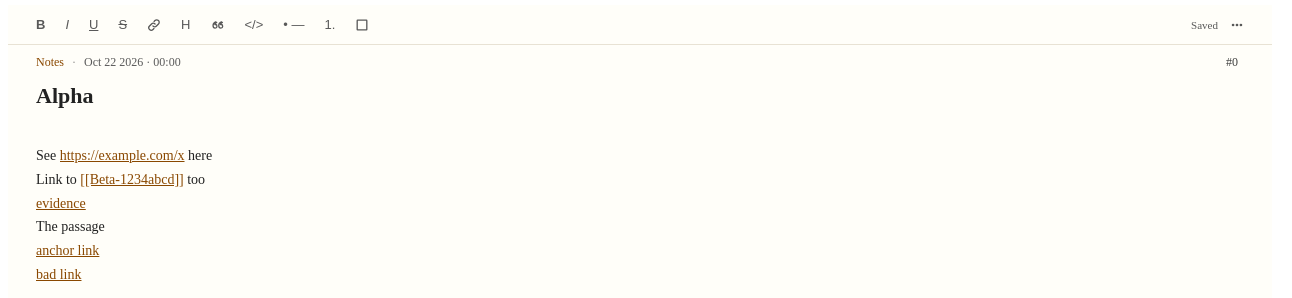
a scroll that takes the link out of the visible box closes the chip
Click the text box labelled "See https://example.com/x here": (124, 156) top-left (36, 148), bottom-right (212, 163)
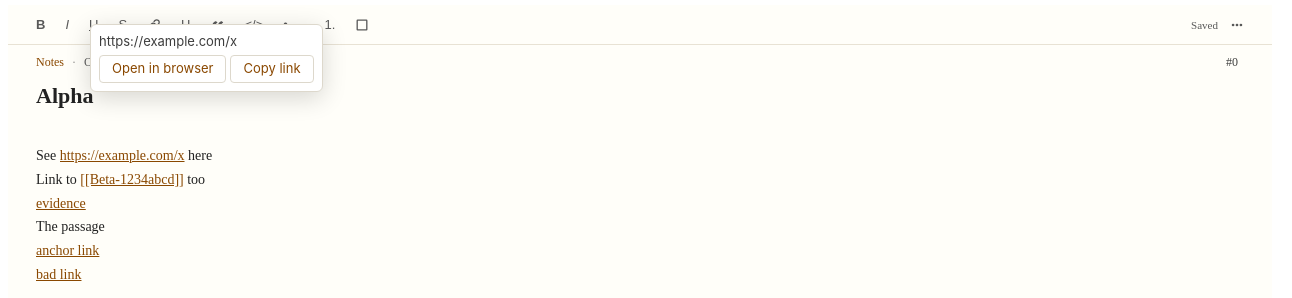
Result: the element with class "link-chip" is shown at top-left (90, 24), bottom-right (323, 92)
